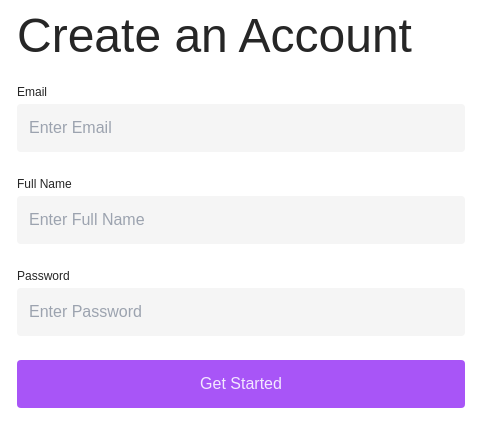
Test: Register Form › must show error message when email is invalid
Type "test@test" into the field with id "email" at {"x": 241, "y": 128}, box left=17, top=104, right=465, bottom=152
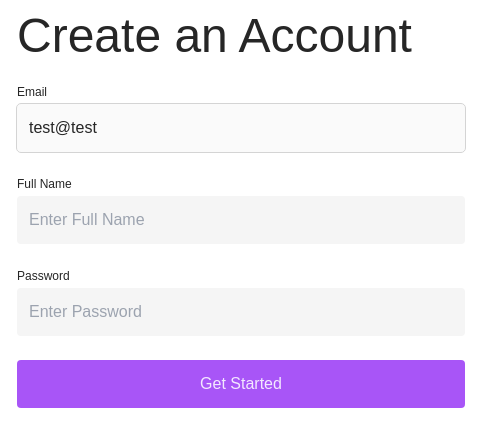
Type "John Doe" into the field with id "fullName" at {"x": 241, "y": 220}, box left=17, top=196, right=465, bottom=244
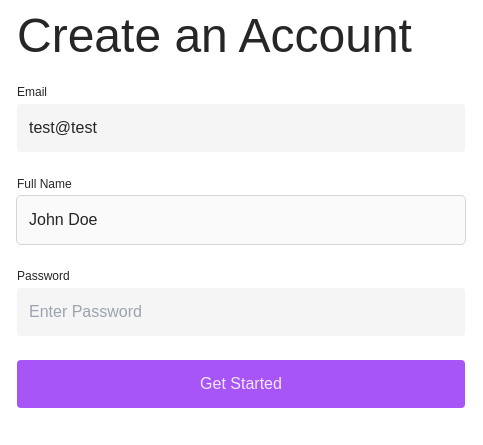
Type "Password123" into the password field labelled "Password" at {"x": 241, "y": 312}, box left=17, top=288, right=465, bottom=336
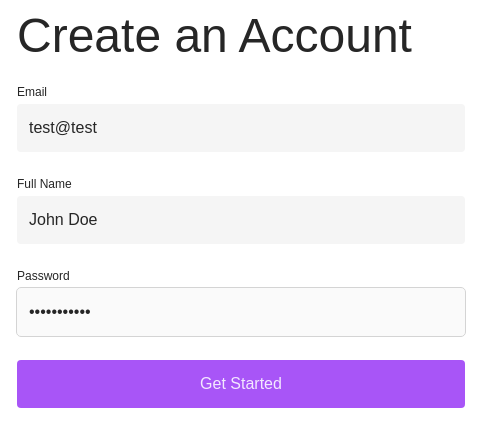
Submit the form
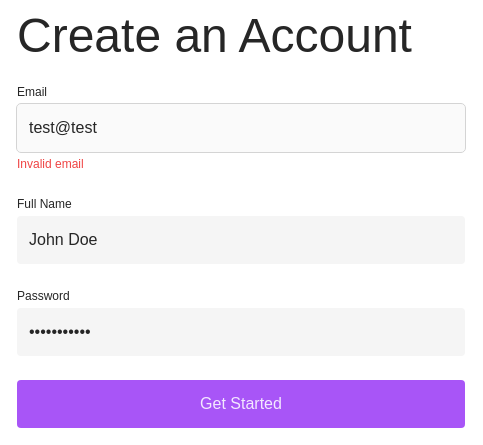
expect the text "Invalid email" is shown: met, box left=17, top=157, right=84, bottom=171
